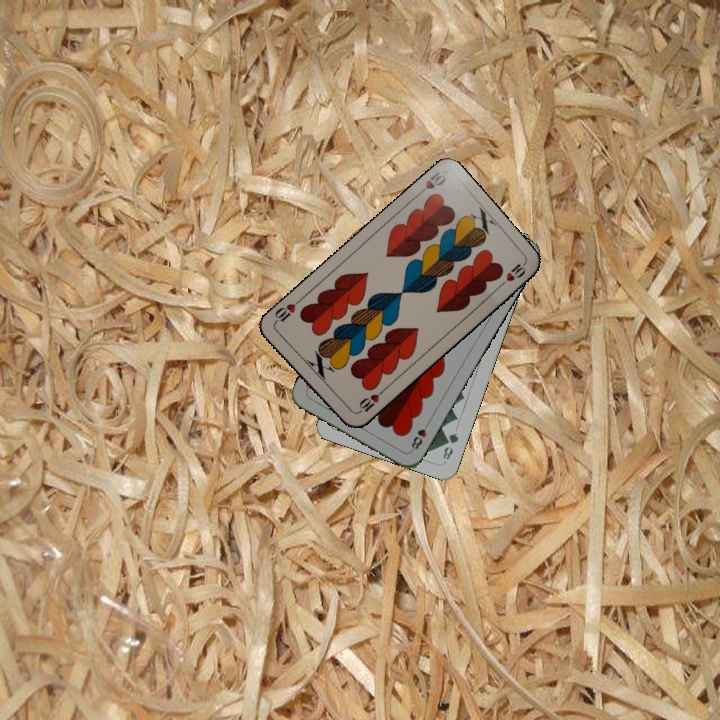G8: (439, 428, 461, 462)
H10: (412, 167, 448, 199), (353, 386, 387, 416)
H8: (407, 417, 432, 454)
